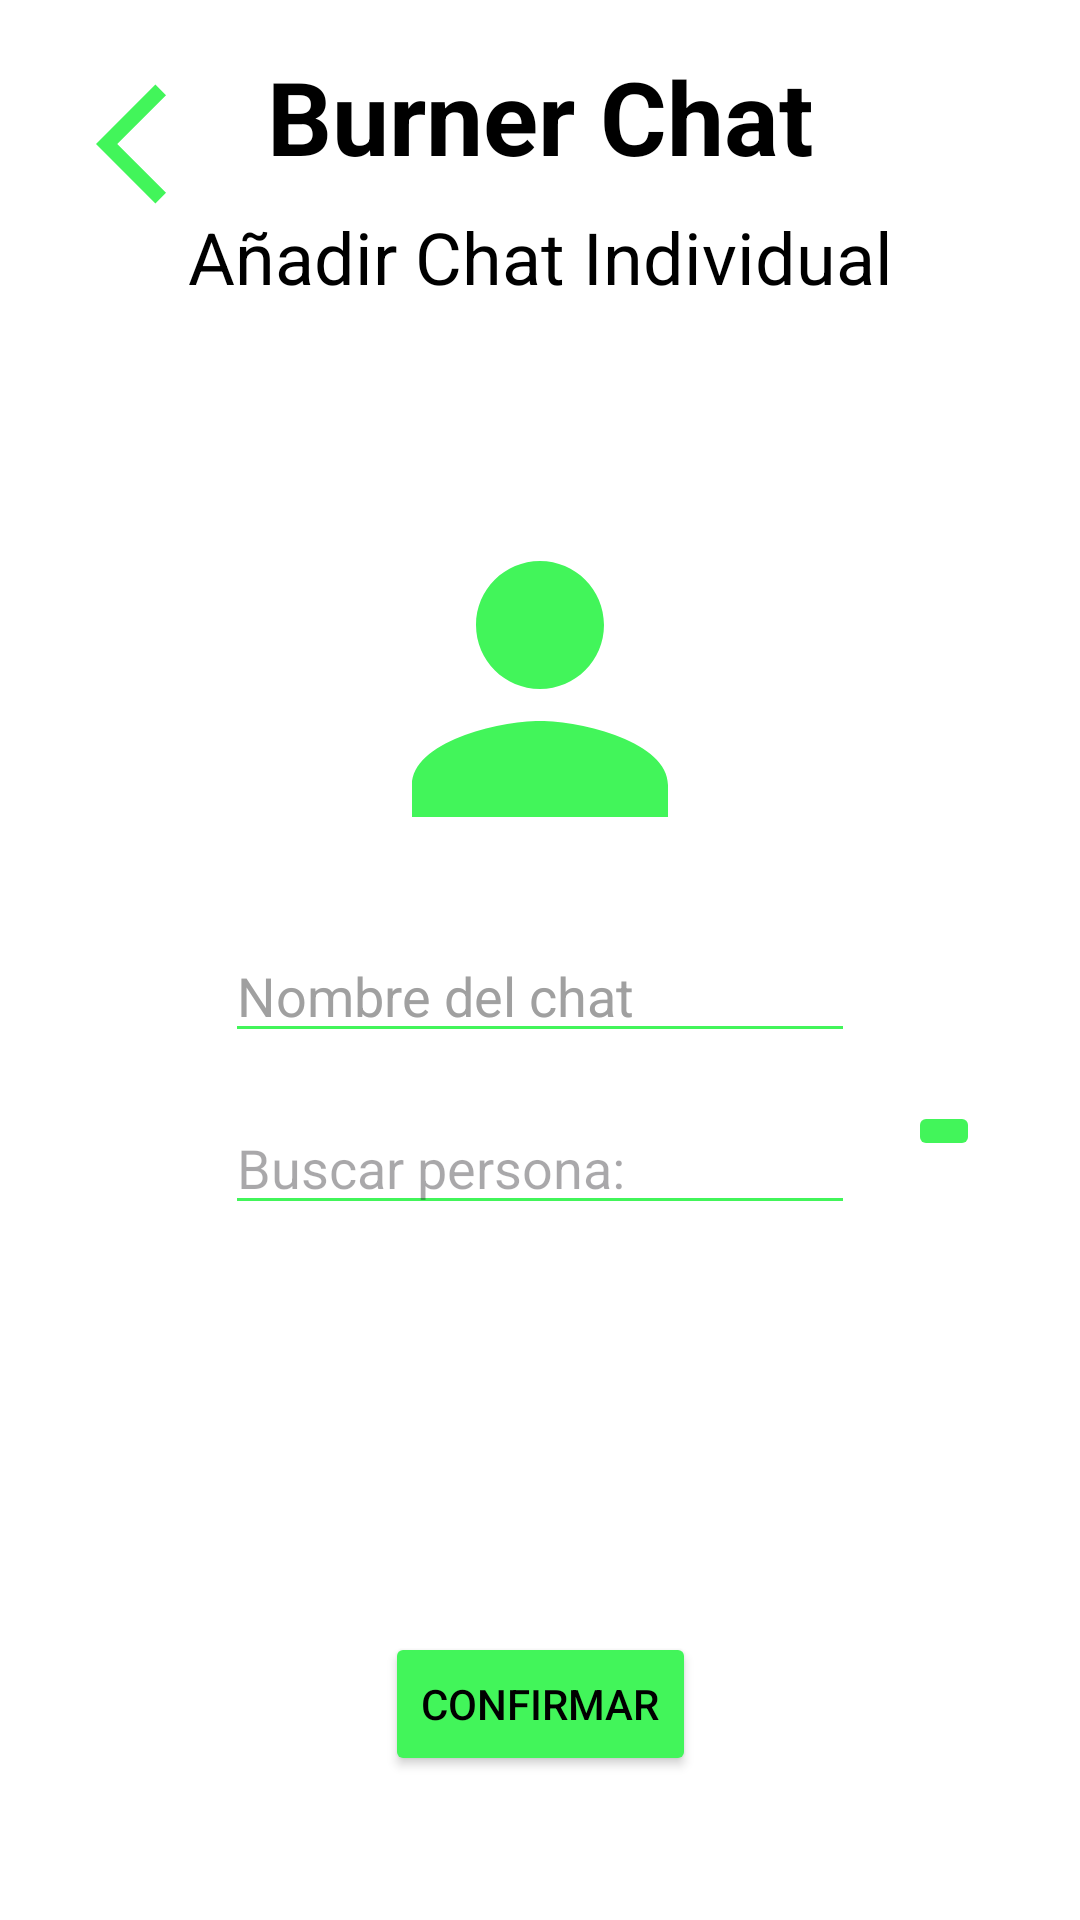

Icons on this 1080x1920 Android screen, each with its box as [x1=x1, y1=y1, x2=x2, y2=y2]:
arrow back: [x1=96, y1=84, x2=166, y2=204]
